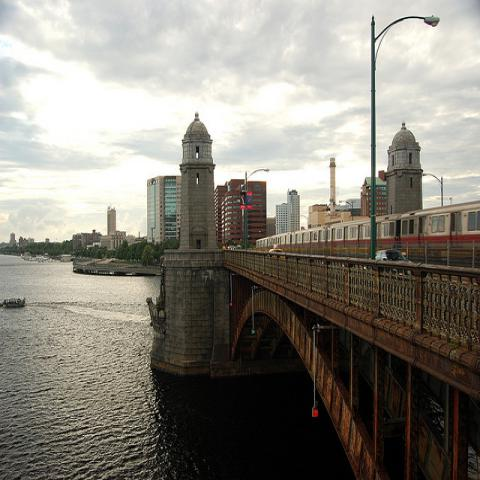car: (376, 250, 414, 264), (268, 248, 284, 252)
